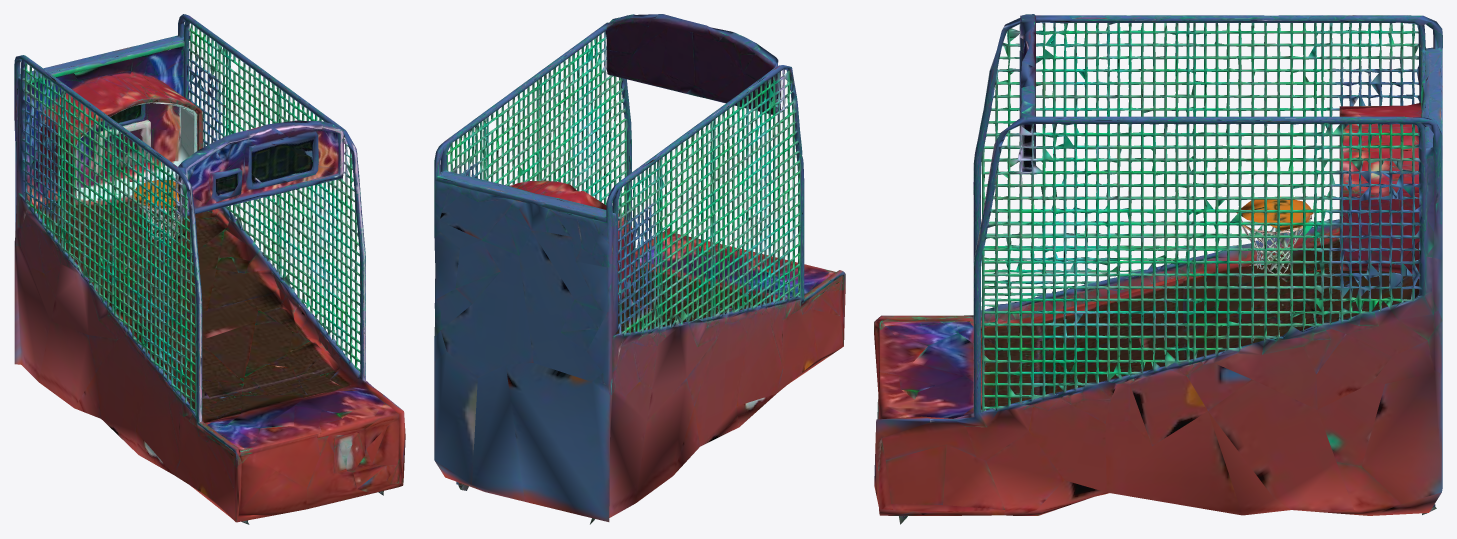
The model's file is a3D-basket.glb.
3 renders of one model, left to right at view 1: azimuth 30°, elevation 25°; view 2: azimuth 150°, elevation 25°; view 3: azimuth 270°, elevation 25°, orthographic. The views are drawn at different scales.
Parts seen in each view (by area): view 1: geometry_0; view 2: geometry_0; view 3: geometry_0.
Part boxes in pixels (x1,y1,x2,y2): geometry_0: (14,14,405,524); geometry_0: (434,14,845,524); geometry_0: (874,14,1442,524).
Size of the model in its own units: 0.8257 by 1.63 by 1.9.
Materials: 1 (1 with a texture image).
